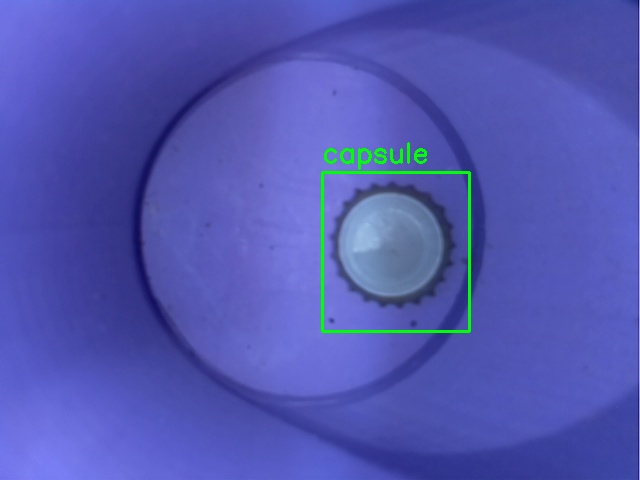capsule: (322, 172, 469, 331)
